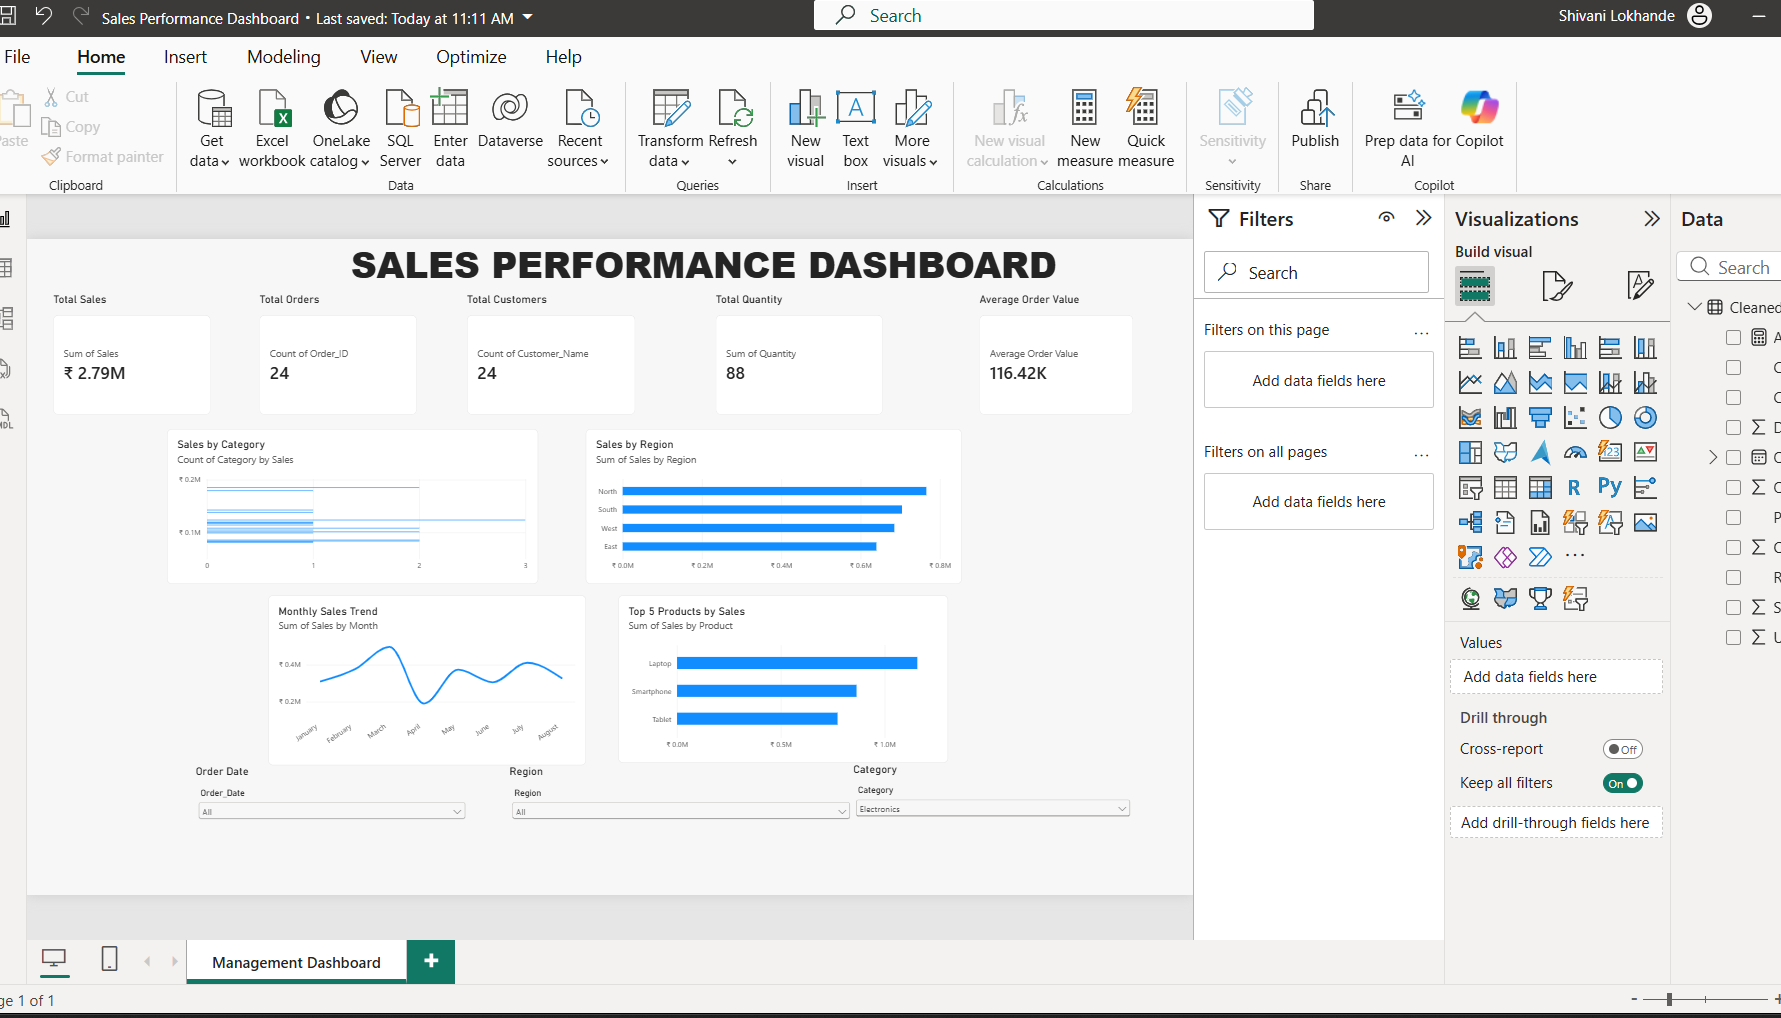

The dashboard page shown, as its layout file describes it:
{"tool":"powerbi","page":{"name":"Management Dashboard","canvas":[1920,1080],"ordinal":0},"visuals":[{"type":"textbox","box":[533.1,0,1200,123.5],"z":0},{"type":"cardVisual","title":"Total Sales","fields":{"Data":["Sum(Cleaned_Sales_Data.Sales)"]},"box":[43.2,88.5,259.3,201.7],"z":1000},{"type":"cardVisual","title":"Total Orders","fields":{"Data":["Count(Cleaned_Sales_Data.Order_ID)"]},"box":[382.8,88.5,259.3,201.7],"z":2000},{"type":"cardVisual","title":"Total Customers","fields":{"Data":["Count(Cleaned_Sales_Data.Customer_Name)"]},"box":[724.5,88.5,277.9,201.7],"z":3000},{"type":"cardVisual","title":"Total Quantity","fields":{"Data":["Sum(Cleaned_Sales_Data.Quantity)"]},"box":[1134.1,88.5,275.8,201.7],"z":4000},{"type":"cardVisual","title":"Average Order Value","fields":{"Data":["Cleaned_Sales_Data.Average Order Value"]},"box":[1568.4,88.5,253.2,201.7],"z":5000},{"type":"clusteredBarChart","title":"Sales by Category","fields":{"Category":["Cleaned_Sales_Data.Sales"],"Y":["CountNonNull(Cleaned_Sales_Data.Category)"]},"box":[230.5,312.9,611.3,255.2],"z":6000},{"type":"clusteredBarChart","title":"Sales by Region","fields":{"Category":["Cleaned_Sales_Data.Region"],"Y":["Sum(Cleaned_Sales_Data.Sales)"]},"box":[920.1,312.9,619.6,255.2],"z":7000},{"type":"lineChart","title":"Monthly Sales Trend","fields":{"Category":["Cleaned_Sales_Data.Order_Date.Variation.Date Hierarchy.Month"],"Y":["Sum(Cleaned_Sales_Data.Sales)"]},"box":[397.3,586.6,522.8,279.9],"z":7001},{"type":"clusteredBarChart","title":"Top 5 Products by Sales","fields":{"Category":["Cleaned_Sales_Data.Product"],"Y":["Sum(Cleaned_Sales_Data.Sales)"]},"box":[973.6,586.6,543.4,275.8],"z":7002},{"type":"slicer","title":"Order Date","fields":{"Values":["Cleaned_Sales_Data.Order_Date"]},"box":[277.9,866.6,448.7,181.1],"z":7003},{"type":"slicer","title":"Region","fields":{"Values":["Cleaned_Sales_Data.Region"]},"box":[794.5,866.6,566,214.1],"z":7004},{"type":"slicer","title":"Category","fields":{"Values":["Cleaned_Sales_Data.Category"]},"box":[1360.6,862.4,461.1,158.5],"z":7005}]}

Visuals, with their boxes on the page's 1920x1080 design canvas (x1, y1, x2, y2). These are canvas units, not pixel positions in the 1781x1018 screenshot, which may show the page scaled, cropped or inside an application window:
textbox: [x1=533, y1=0, x2=1733, y2=124]
"Total Sales" cardVisual: [x1=43, y1=88, x2=302, y2=290]
"Total Orders" cardVisual: [x1=383, y1=88, x2=642, y2=290]
"Total Customers" cardVisual: [x1=724, y1=88, x2=1002, y2=290]
"Total Quantity" cardVisual: [x1=1134, y1=88, x2=1410, y2=290]
"Average Order Value" cardVisual: [x1=1568, y1=88, x2=1822, y2=290]
"Sales by Category" clusteredBarChart: [x1=230, y1=313, x2=842, y2=568]
"Sales by Region" clusteredBarChart: [x1=920, y1=313, x2=1540, y2=568]
"Monthly Sales Trend" lineChart: [x1=397, y1=587, x2=920, y2=866]
"Top 5 Products by Sales" clusteredBarChart: [x1=974, y1=587, x2=1517, y2=862]
"Order Date" slicer: [x1=278, y1=867, x2=727, y2=1048]
"Region" slicer: [x1=794, y1=867, x2=1360, y2=1081]
"Category" slicer: [x1=1361, y1=862, x2=1822, y2=1021]
